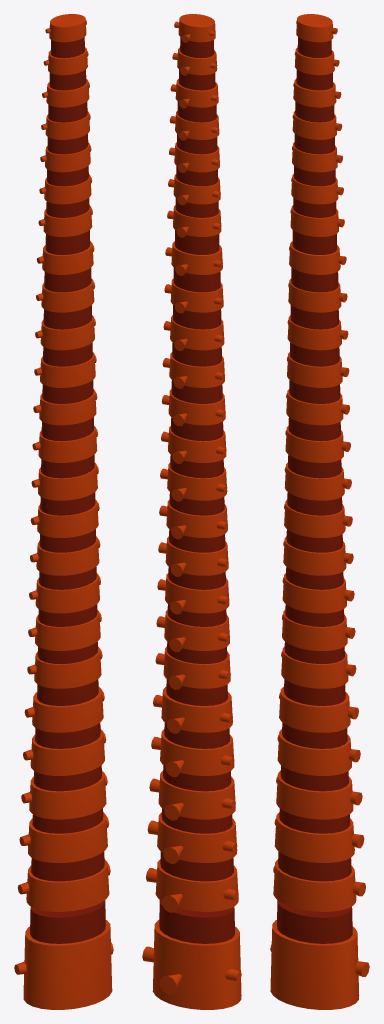
The model's file is spine.glb.
3 renders of one model, left to right at view 1: azimuth 30°, elevation 25°; view 2: azimuth 150°, elevation 25°; view 3: azimuth 330°, elevation 25°, orthographic.
Visible parts, largest first — view 1: asthi_vertebra_sacrum, asthi_vertebra_l5, asthi_vertebra_l4, asthi_disc_l5, asthi_vertebra_l3, asthi_vertebra_l2, asthi_vertebra_l1, asthi_vertebra_t12, asthi_vertebra_t11, asthi_vertebra_t10, asthi_vertebra_t9, asthi_vertebra_t8 (+37 smaller); view 2: asthi_vertebra_sacrum, asthi_disc_l5, asthi_vertebra_l5, asthi_vertebra_l4, asthi_vertebra_l3, asthi_vertebra_l2, asthi_vertebra_l1, asthi_vertebra_t12, asthi_vertebra_t11, asthi_vertebra_t10, asthi_vertebra_t9, asthi_vertebra_t8 (+41 smaller); view 3: asthi_vertebra_sacrum, asthi_vertebra_l5, asthi_vertebra_l4, asthi_disc_l5, asthi_vertebra_l3, asthi_vertebra_l2, asthi_vertebra_l1, asthi_vertebra_t12, asthi_vertebra_t11, asthi_vertebra_t10, asthi_vertebra_t9, asthi_vertebra_t8 (+37 smaller).
Part boxes in pixels (box(x1,y1,x2,y2)): asthi_vertebra_sacrum: box(23, 920, 112, 1009); asthi_vertebra_l5: box(26, 859, 109, 911); asthi_vertebra_l4: box(28, 812, 107, 862); asthi_disc_l5: box(30, 900, 105, 943); asthi_vertebra_l3: box(29, 770, 106, 819); asthi_vertebra_l2: box(30, 729, 104, 775); asthi_vertebra_l1: box(32, 687, 103, 732); asthi_vertebra_t12: box(34, 646, 101, 688); asthi_vertebra_t11: box(35, 610, 100, 650); asthi_vertebra_t10: box(35, 573, 99, 613); asthi_vertebra_t9: box(36, 536, 99, 575); asthi_vertebra_t8: box(37, 499, 98, 537); asthi_vertebra_sacrum: box(152, 920, 241, 1009); asthi_disc_l5: box(159, 900, 234, 943); asthi_vertebra_l5: box(155, 859, 238, 911); asthi_vertebra_l4: box(157, 812, 237, 862); asthi_vertebra_l3: box(158, 771, 235, 819); asthi_vertebra_l2: box(160, 729, 234, 775); asthi_vertebra_l1: box(161, 687, 232, 732); asthi_vertebra_t12: box(163, 646, 230, 688); asthi_vertebra_t11: box(164, 610, 229, 650); asthi_vertebra_t10: box(165, 573, 229, 613); asthi_vertebra_t9: box(165, 536, 228, 575); asthi_vertebra_t8: box(166, 499, 227, 537); asthi_vertebra_sacrum: box(270, 920, 359, 1009); asthi_vertebra_l5: box(273, 859, 356, 911); asthi_vertebra_l4: box(274, 812, 354, 862); asthi_disc_l5: box(277, 900, 352, 943); asthi_vertebra_l3: box(276, 771, 353, 819); asthi_vertebra_l2: box(277, 729, 351, 775); asthi_vertebra_l1: box(279, 686, 350, 732); asthi_vertebra_t12: box(281, 646, 348, 688); asthi_vertebra_t11: box(282, 610, 347, 650); asthi_vertebra_t10: box(282, 573, 346, 613); asthi_vertebra_t9: box(283, 536, 346, 575); asthi_vertebra_t8: box(284, 499, 345, 537).
Bounding box in the file's own units: 0.1829 × 1.83 × 0.1605.
